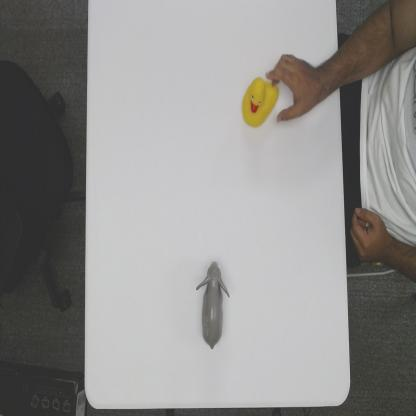Arm: (321, 50, 340, 101)
Duck: (242, 74, 278, 129)
Elephant: (196, 258, 230, 350)
Hand: (267, 50, 321, 126)
